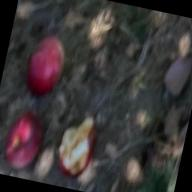Apples: (22, 35, 69, 98), (2, 109, 47, 172)
